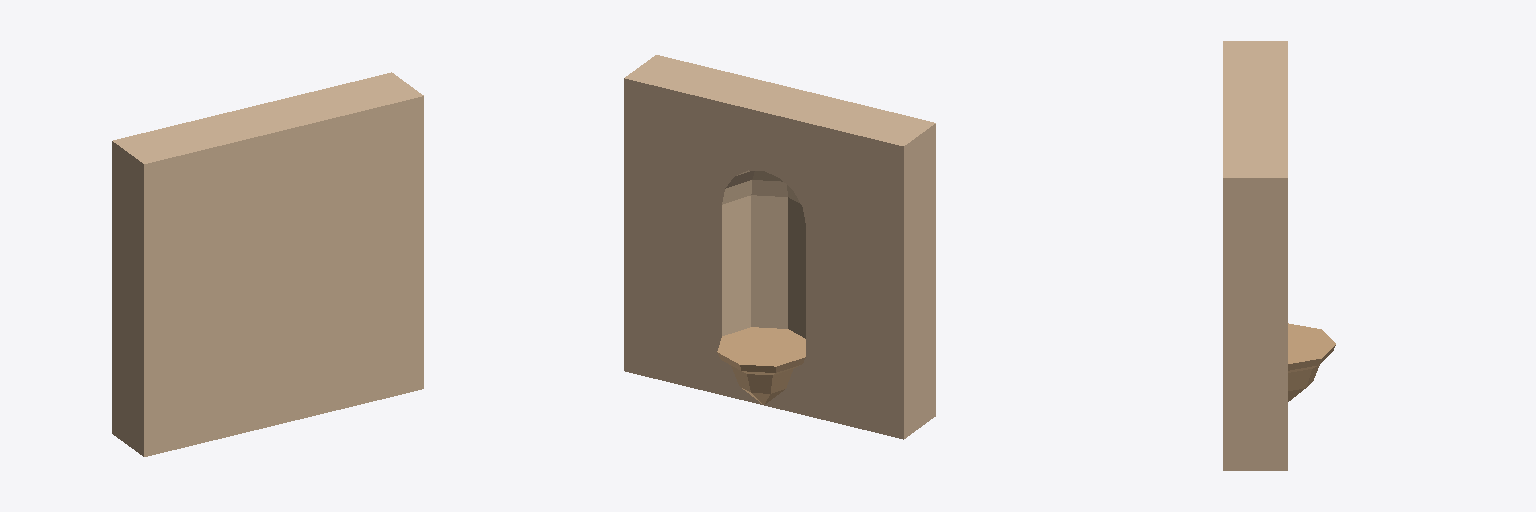
The model's file is Wall_Straight_Cubby.obj.
3 renders of one model, left to right at view 1: azimuth 30°, elevation 25°; view 2: azimuth 150°, elevation 25°; view 3: azimuth 270°, elevation 25°, orthographic.
Parts seen in each view (by area): view 1: object1; view 2: object1; view 3: object1.
Boxes of the visible parts, box(x1,y1,x2,y2) form: object1: box(112, 72, 423, 456); object1: box(624, 55, 935, 439); object1: box(1223, 41, 1335, 470).
Size of the model in its own units: 1 by 1 by 0.35.